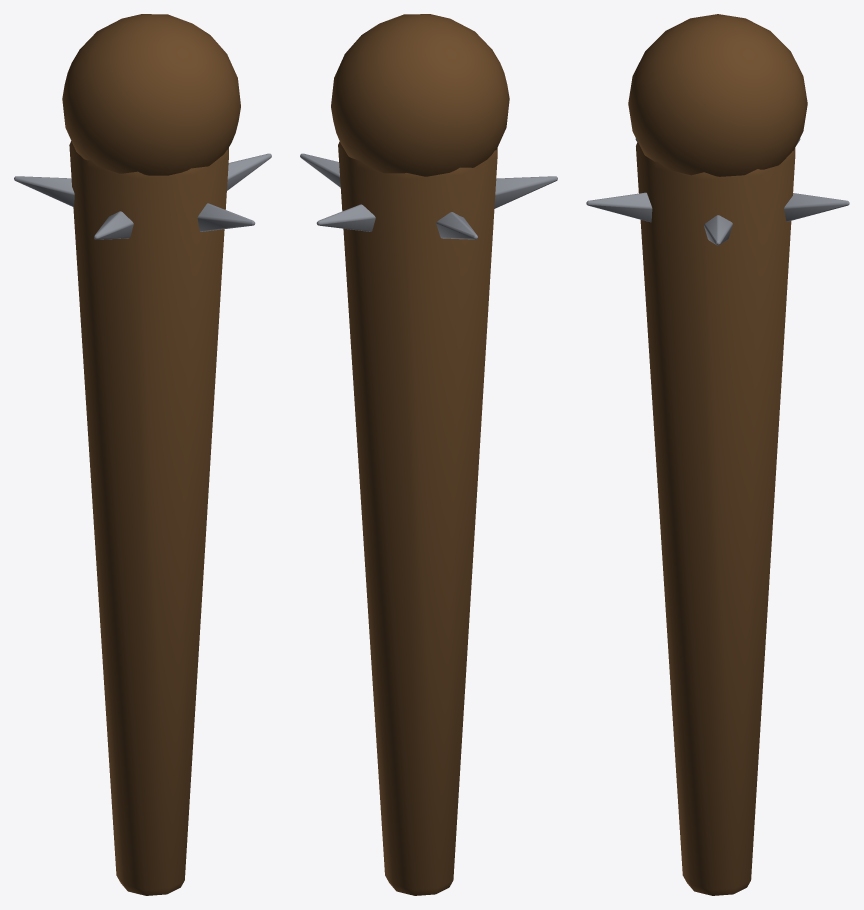
The model's file is club.glb.
3 renders of one model, left to right at view 1: azimuth 30°, elevation 25°; view 2: azimuth 150°, elevation 25°; view 3: azimuth 270°, elevation 25°, orthographic.
Visible parts, largest first — view 1: wpn_club; view 2: wpn_club; view 3: wpn_club.
Boxes of the visible parts, x1,y1,x2,y2 form: wpn_club: (14,14,271,895); wpn_club: (300,14,557,895); wpn_club: (586,14,849,895).
Size of the model in its own units: 0.3629 by 1.38 by 0.3809.
